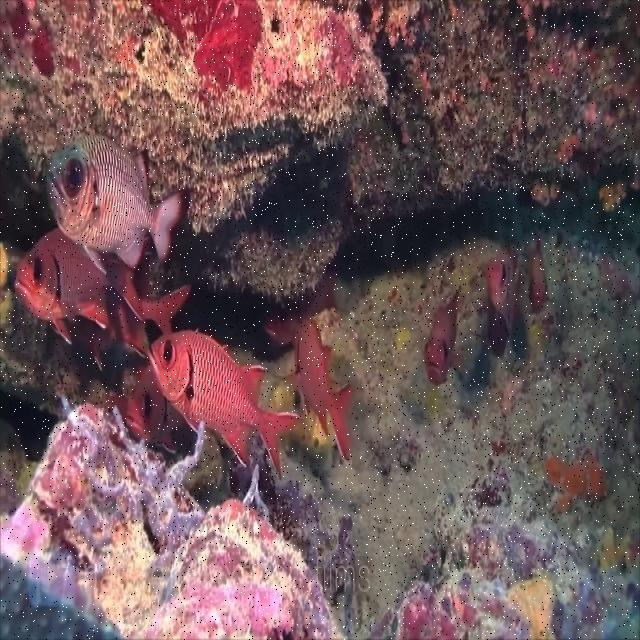fish: (150, 330, 301, 479), (45, 135, 187, 273), (16, 234, 143, 344), (290, 318, 353, 464), (484, 248, 518, 351), (426, 288, 461, 387)
